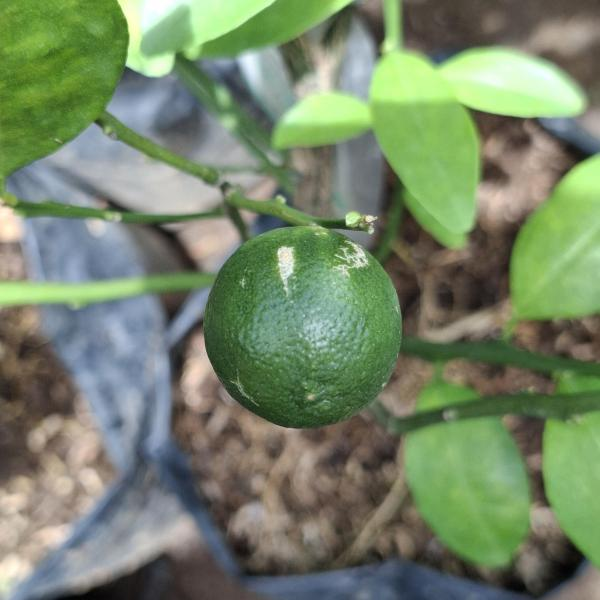Scab: (194, 214, 412, 444)
